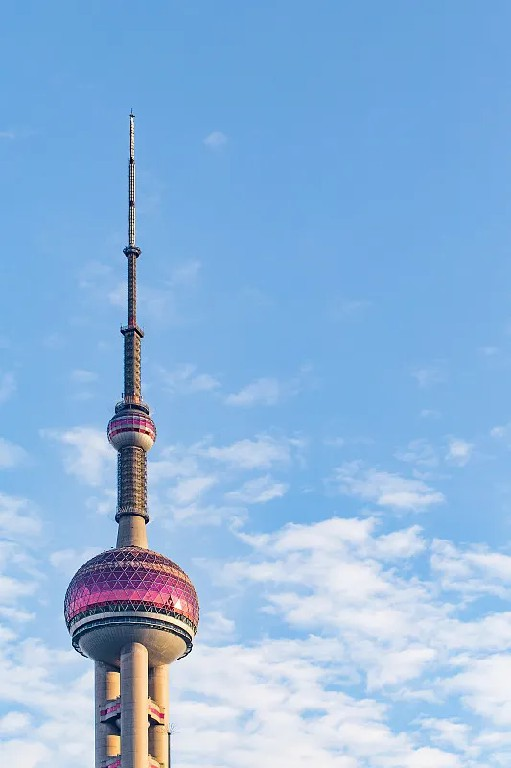Oriental: (64, 111, 199, 768)
